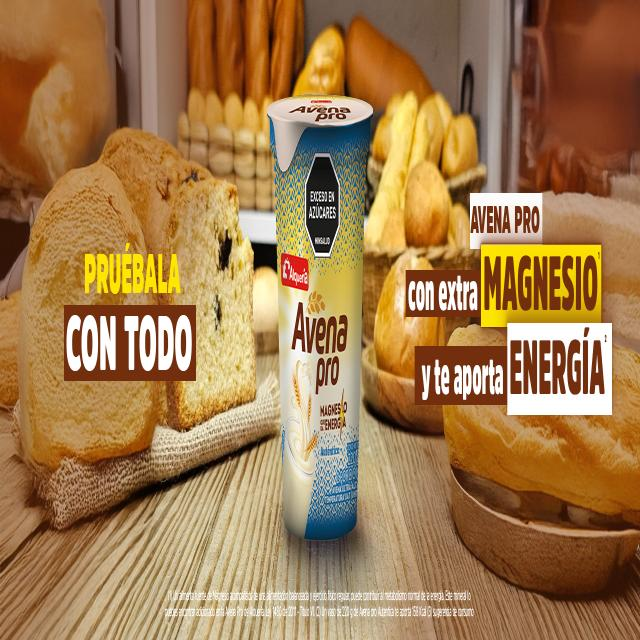arepa: (403, 162, 452, 240)
